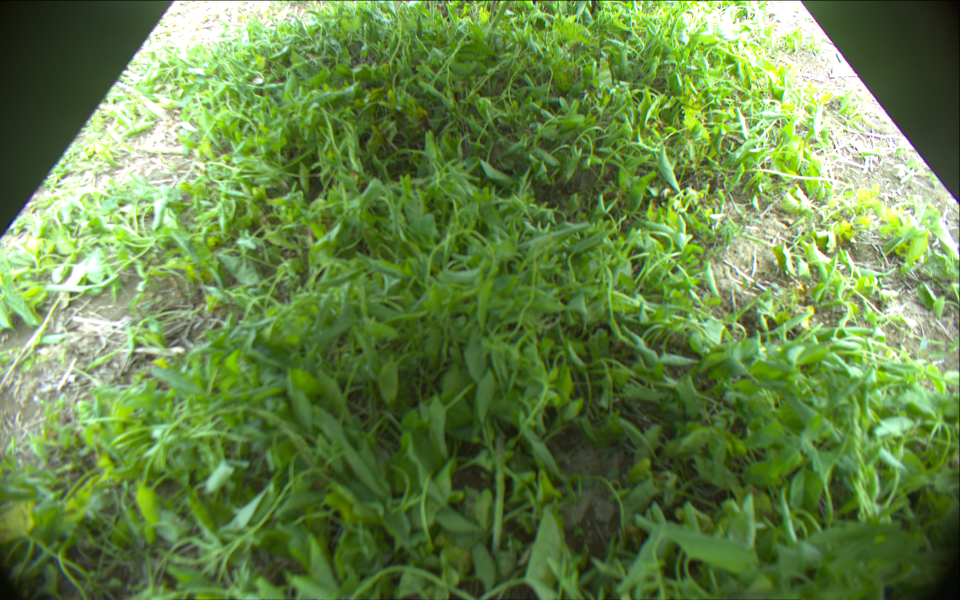aspa: (491, 435, 506, 553), (488, 1, 517, 34)
